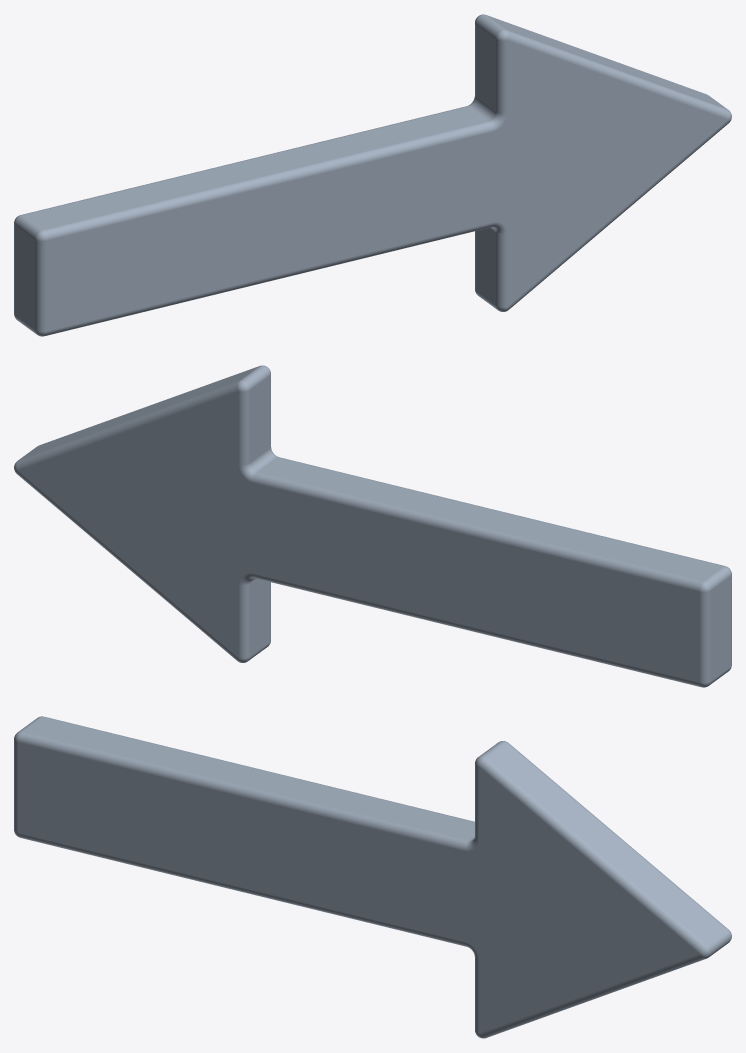
File: arrow.obj
3 views of the same model, one above another, from view 1: azimuth 30°, elevation 25°; view 2: azimuth 150°, elevation 25°; view 3: azimuth 330°, elevation 25° (orthographic).
Visible parts, largest first — view 1: 1; view 2: 1; view 3: 1.
Boxes of the visible parts, x1=… form: 1: x1=14, y1=14, x2=731, y2=336; 1: x1=14, y1=365, x2=731, y2=687; 1: x1=14, y1=716, x2=731, y2=1038.
Size of the model in its own units: 1423 by 550 by 100.
